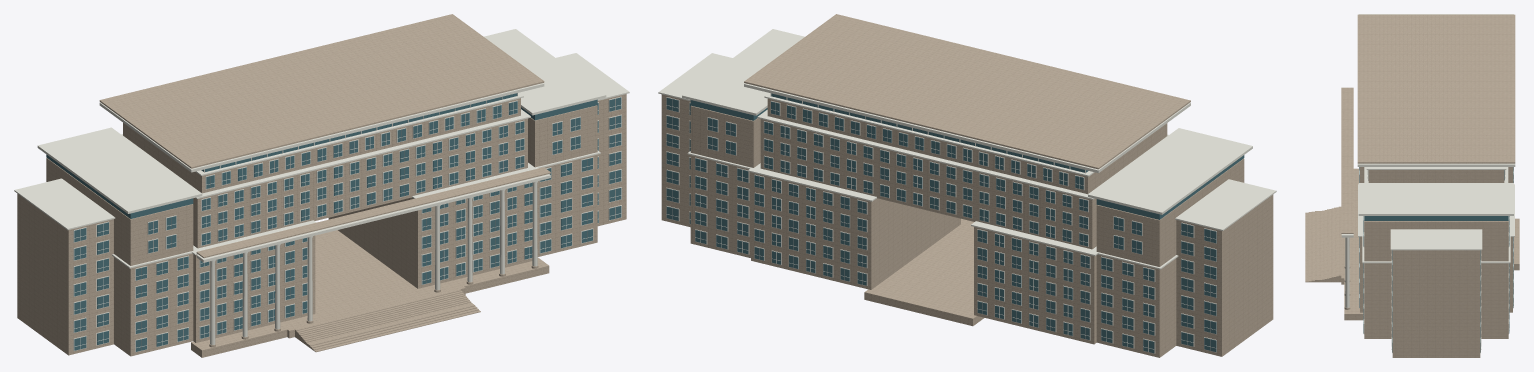
File: laboratory.glb
3 renders of one model, left to right at view 1: azimuth 30°, elevation 25°; view 2: azimuth 150°, elevation 25°; view 3: azimuth 270°, elevation 25°, orthographic. The views are drawn at different scales.
Visible parts, largest first — view 1: landmark-laboratory; view 2: landmark-laboratory; view 3: landmark-laboratory.
Boxes of the visible parts, x1=… form: landmark-laboratory: x1=14, y1=14, x2=629, y2=357; landmark-laboratory: x1=658, y1=14, x2=1276, y2=357; landmark-laboratory: x1=1305, y1=14, x2=1519, y2=357.
Bounding box in the file's own units: 140 × 44.17 × 53.88.
3 materials, 1 textured.
